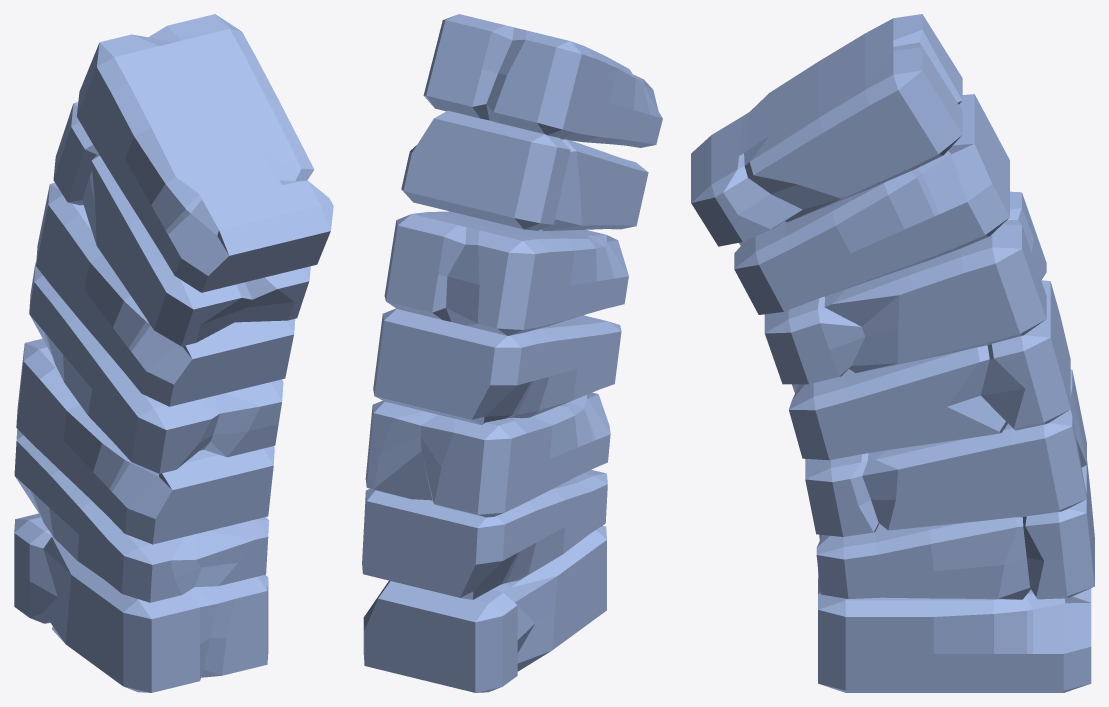
File: Vampire_Assets_SestroyedArc_Solo.fbx
3 renders of one model, left to right at view 1: azimuth 30°, elevation 25°; view 2: azimuth 150°, elevation 25°; view 3: azimuth 270°, elevation 25°, orthographic. The views are drawn at different scales.
Visible parts, largest first — view 1: Cube.005; view 2: Cube.005; view 3: Cube.005.
Boxes of the visible parts, x1,y1,x2,y2 form: Cube.005: (14, 14, 333, 692); Cube.005: (362, 14, 662, 692); Cube.005: (691, 14, 1094, 692).
Size of the model in its own units: 216 by 883 by 519.
